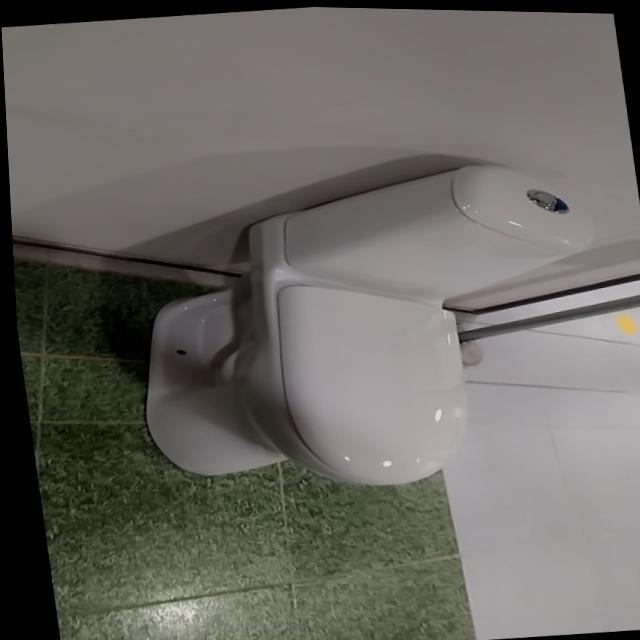toilet: (106, 144, 629, 508)
